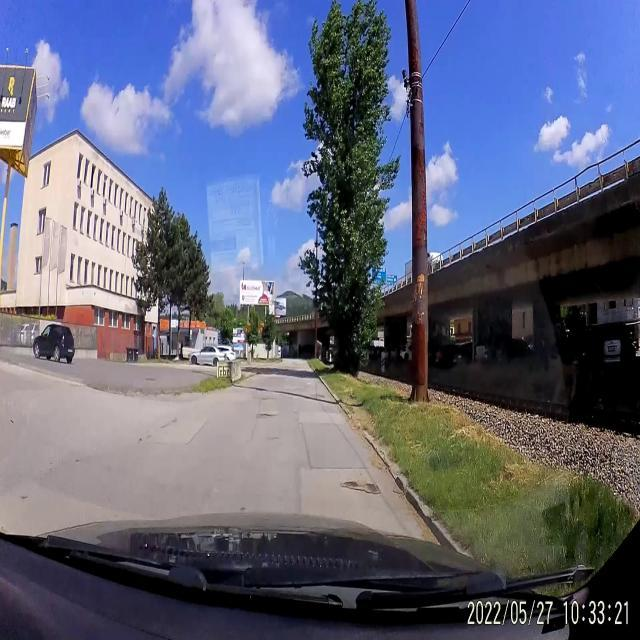Pothole: (340, 474, 380, 498), (254, 407, 279, 421)
